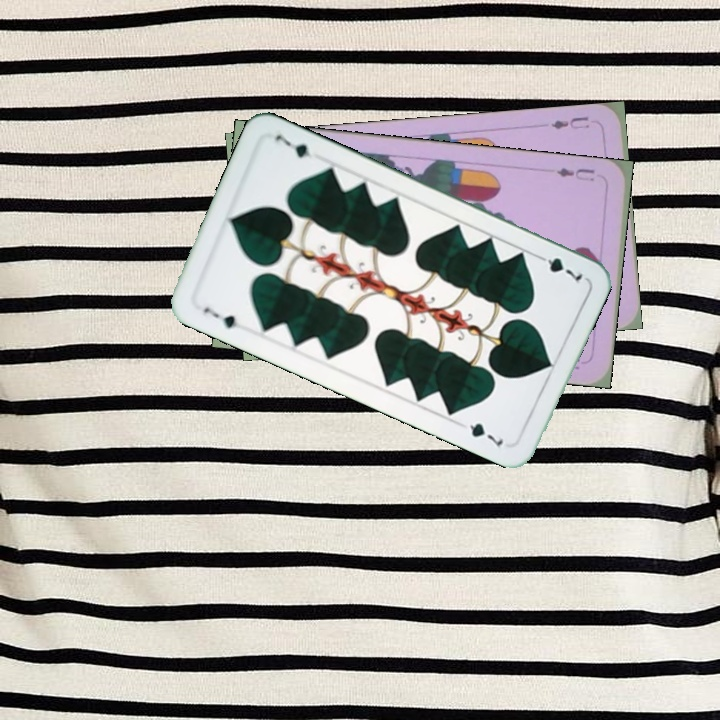EU: (547, 112, 592, 132), (552, 164, 597, 184)
G7: (531, 250, 586, 284), (199, 303, 246, 333)
